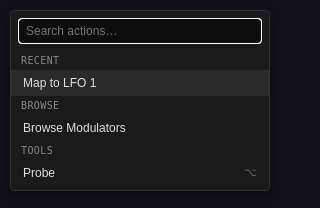
Test: InlineActionMenu — I3 shell › shows empty state when no actions match
Type "zzzznomatch" into the field with test id "inline-action-menu-search" at point(140, 31), box [19,19,261,43]
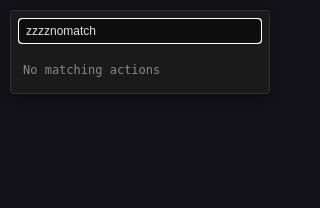
Expected: the text "No matching actions" is shown, [23,63,160,77]
